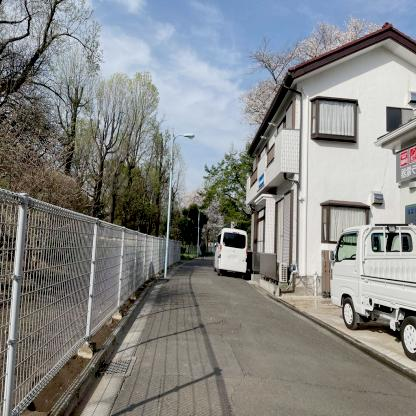Someiyoshino: (234, 14, 388, 134), (176, 182, 236, 234)
